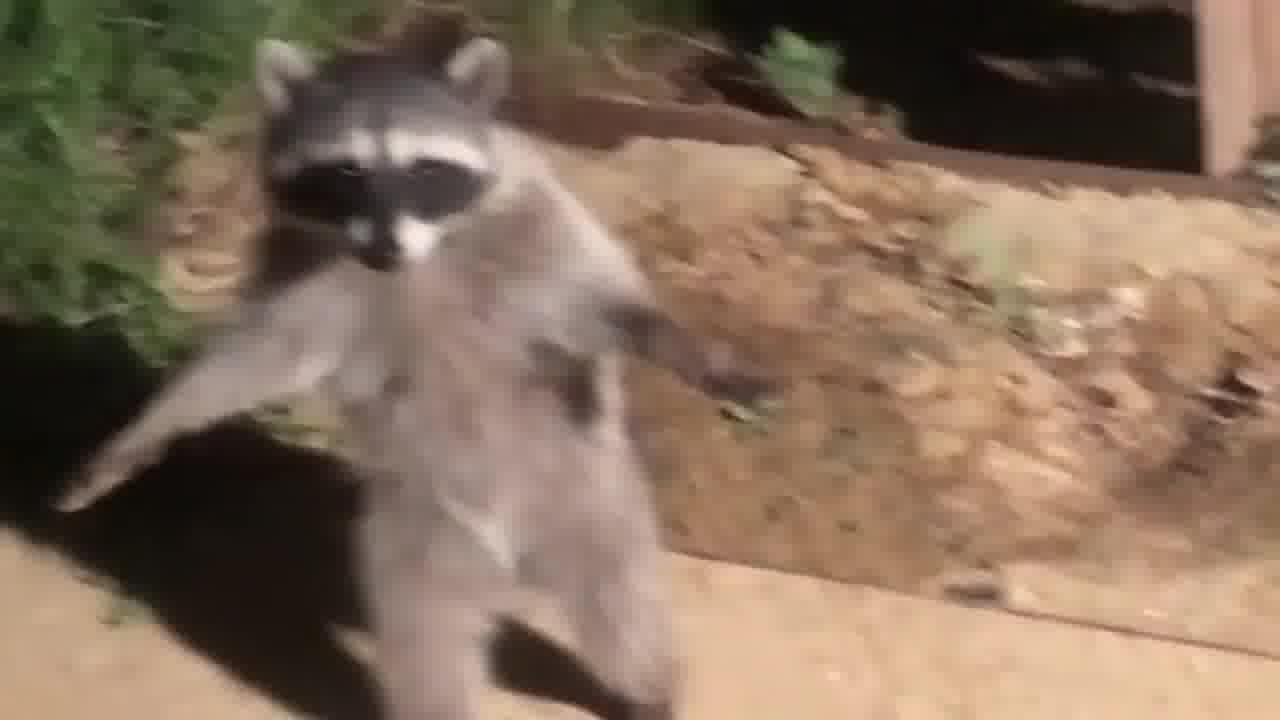raccoon: (0, 6, 799, 720)
